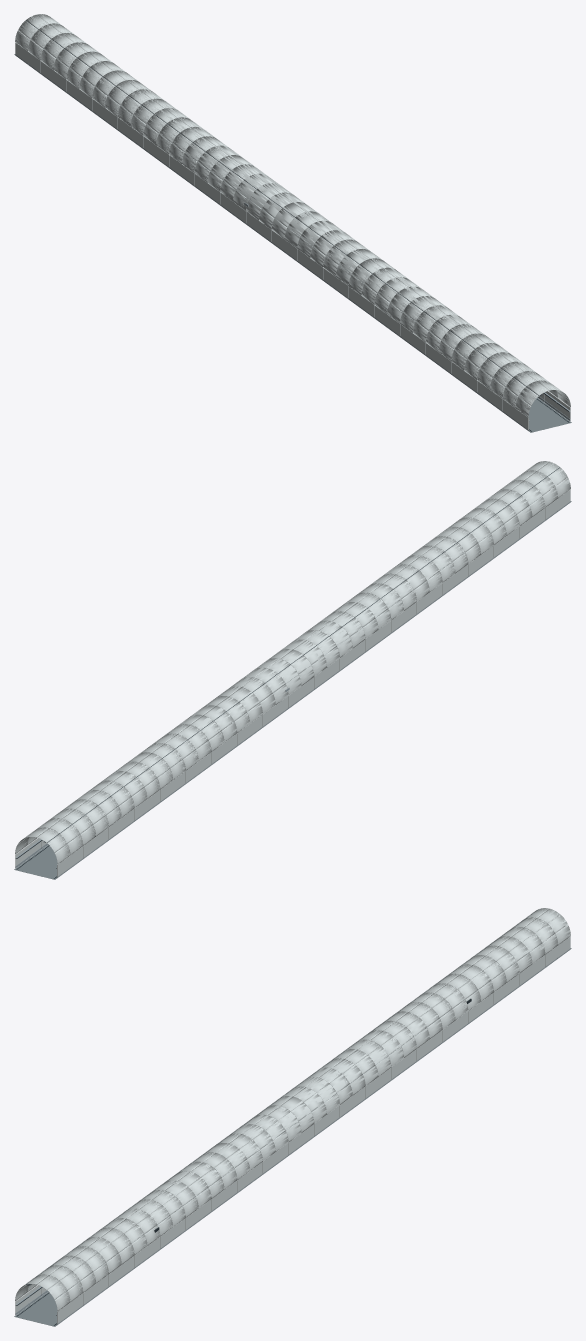
File: RD_T19_Finish_Sections.fbx
The picture shows the model from 3 angles, top to bottom: view 1: azimuth 30°, elevation 25°; view 2: azimuth 150°, elevation 25°; view 3: azimuth 330°, elevation 25°; orthographic projection.
Visible parts, largest first — view 1: T19_S01_Far, T19_S05_Far, T19_S00_Far, T19_S06_Far, T19_S02_Far, T19_S03_Near, T19_S03_Far, T19_S04_Far, T19_S05_Near, T19_S04_Near, T19_S01_Near, T19_S02_Near (+5 smaller); view 2: T19_S01_Far, T19_S00_Far, T19_S05_Far, T19_S06_Far, T19_S02_Far, T19_S03_Far, T19_S03_Near, T19_S04_Far, T19_S01_Near, T19_S05_Near, T19_S04_Near, T19_S00_Near (+5 smaller); view 3: T19_S05_Far, T19_S01_Far, T19_S06_Far, T19_S00_Far, T19_S02_Far, T19_S03_Far, T19_S03_Near, T19_S04_Far, T19_S05_Near, T19_S01_Near, T19_S04_Near, T19_S02_Near (+5 smaller).
Part boxes in pixels (x1=…): T19_S01_Far: x1=79, y1=61, x2=188, y2=158; T19_S05_Far: x1=361, y1=267, x2=471, y2=364; T19_S00_Far: x1=15, y1=14, x2=112, y2=102; T19_S06_Far: x1=438, y1=324, x2=544, y2=411; T19_S02_Far: x1=156, y1=117, x2=251, y2=204; T19_S03_Near: x1=220, y1=164, x2=330, y2=261; T19_S03_Far: x1=220, y1=164, x2=328, y2=260; T19_S04_Far: x1=297, y1=221, x2=393, y2=298; T19_S05_Near: x1=361, y1=268, x2=470, y2=365; T19_S04_Near: x1=297, y1=220, x2=395, y2=308; T19_S01_Near: x1=79, y1=62, x2=189, y2=156; T19_S02_Near: x1=156, y1=118, x2=253, y2=205; T19_S01_Far: x1=88, y1=733, x2=198, y2=830; T19_S00_Far: x1=15, y1=790, x2=121, y2=878; T19_S05_Far: x1=370, y1=527, x2=480, y2=624; T19_S06_Far: x1=449, y1=480, x2=545, y2=567; T19_S02_Far: x1=167, y1=686, x2=262, y2=774; T19_S03_Far: x1=231, y1=630, x2=339, y2=727; T19_S03_Near: x1=230, y1=630, x2=339, y2=720; T19_S04_Far: x1=309, y1=583, x2=403, y2=669; T19_S01_Near: x1=89, y1=733, x2=198, y2=828; T19_S05_Near: x1=372, y1=527, x2=480, y2=624; T19_S04_Near: x1=306, y1=583, x2=403, y2=671; T19_S00_Near: x1=15, y1=790, x2=121, y2=877; T19_S05_Far: x1=110, y1=1161, x2=224, y2=1259; T19_S01_Far: x1=396, y1=955, x2=506, y2=1052; T19_S06_Far: x1=41, y1=1218, x2=147, y2=1305; T19_S00_Far: x1=473, y1=908, x2=570, y2=996; T19_S02_Far: x1=335, y1=1011, x2=429, y2=1099; T19_S03_Far: x1=249, y1=1058, x2=365, y2=1154; T19_S03_Near: x1=256, y1=1058, x2=365, y2=1155; T19_S04_Far: x1=192, y1=1115, x2=288, y2=1202; T19_S05_Near: x1=115, y1=1162, x2=224, y2=1256; T19_S01_Near: x1=398, y1=955, x2=506, y2=1052; T19_S04_Near: x1=188, y1=1114, x2=288, y2=1201; T19_S02_Near: x1=332, y1=1011, x2=429, y2=1097.
Bounding box in the file's own units: 418 × 340 × 8800.
